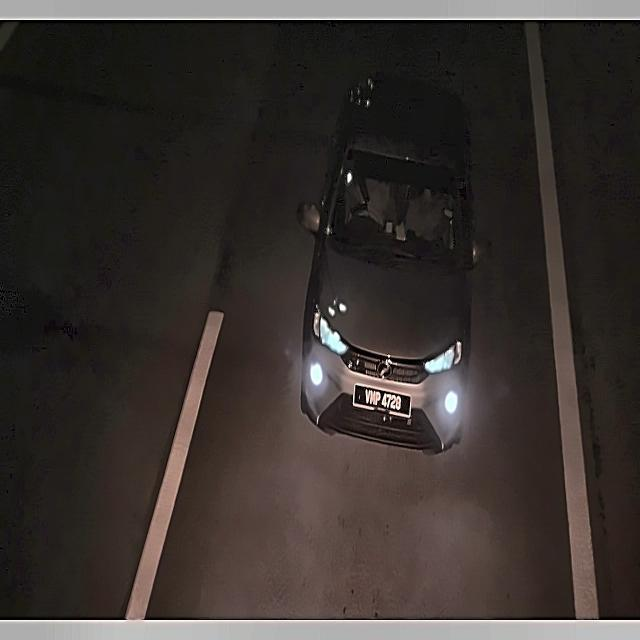car: (354, 383, 411, 420)
